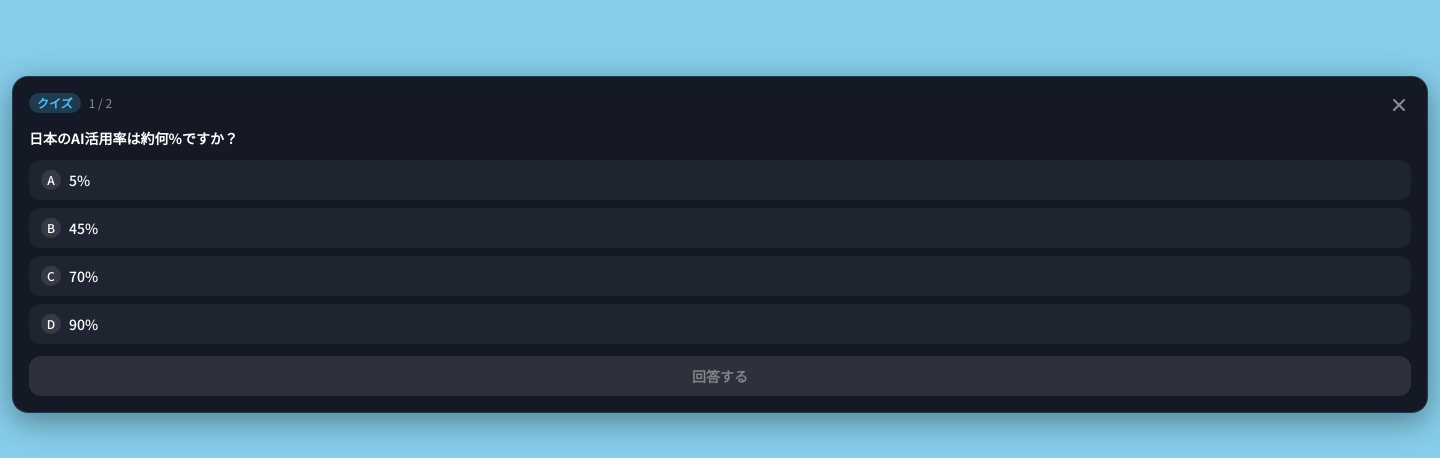
Test: QuizOverlay - navigation › clicking 次の問題へ shows second question
Click the text "45%": x=84, y=228 [69,218,98,238]
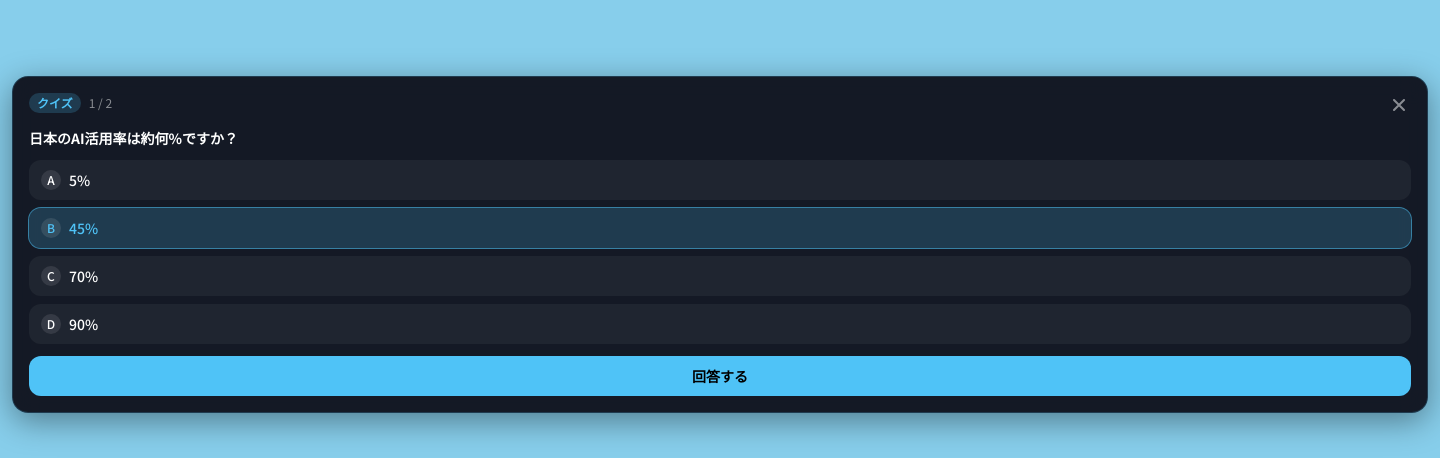
Click the button "回答する": x=720, y=376 [29,356,1411,396]
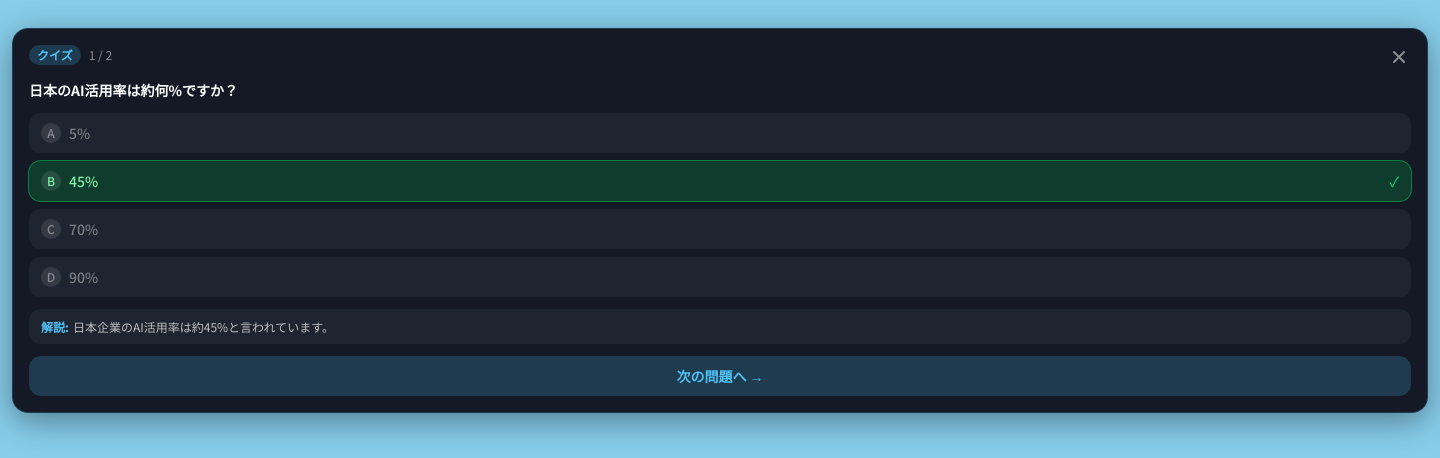
Click the button "次の問題へ →": x=720, y=376 [29,356,1411,396]
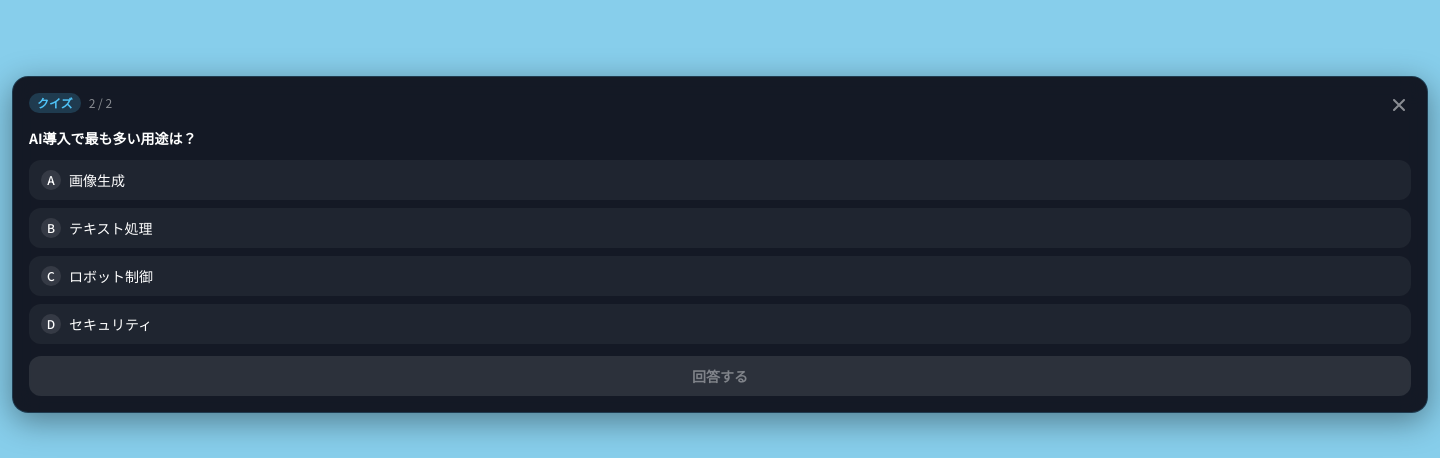
Result: the text "AI導入で最も多い用途は？" is shown at [29,128,197,148]
Result: the text "2 / 2" is shown at [89,95,112,111]
